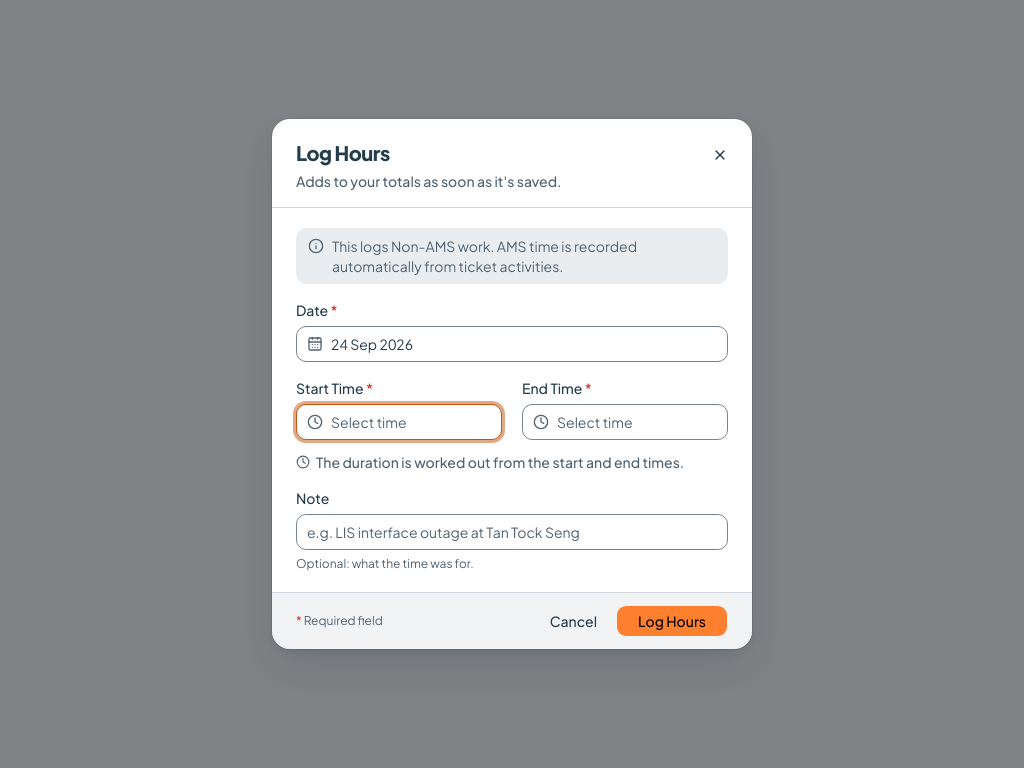
LogHoursDialog validation › blocks submitting an empty form and names what's missing
Click the button "Log Hours".
click(672, 621)  # box [616,605,728,637]
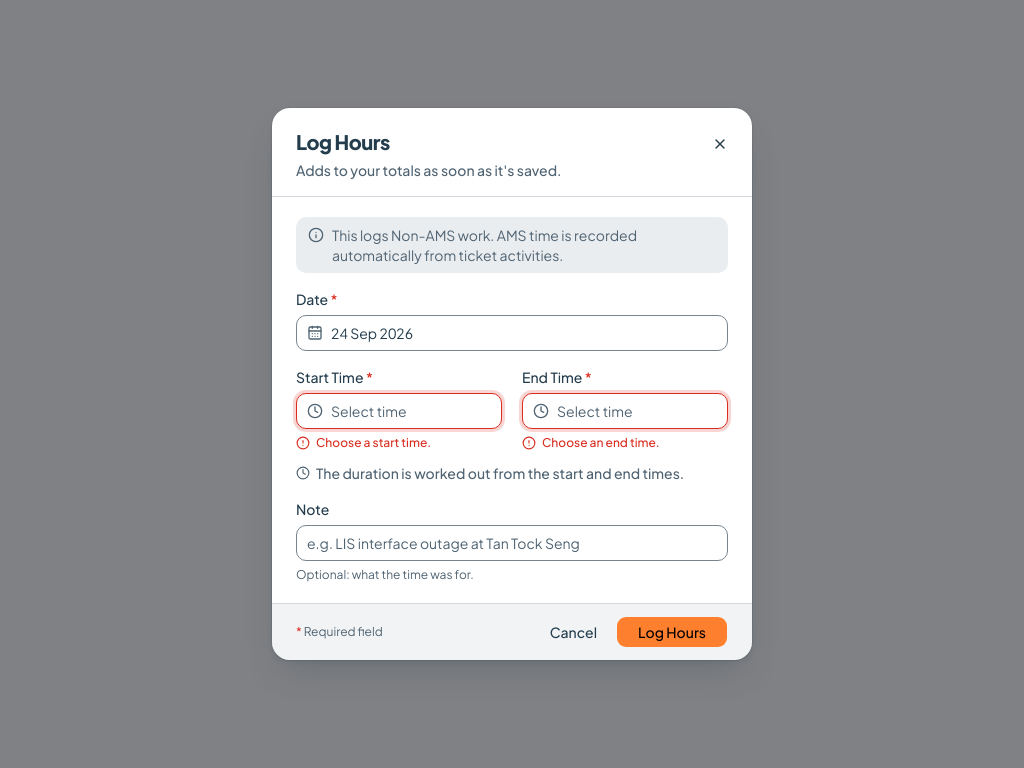
Check: the element showing "Choose a start time." is shown, box [296,435,431,450]
Check: the element showing "Choose an end time." is shown, box [522,435,660,450]
